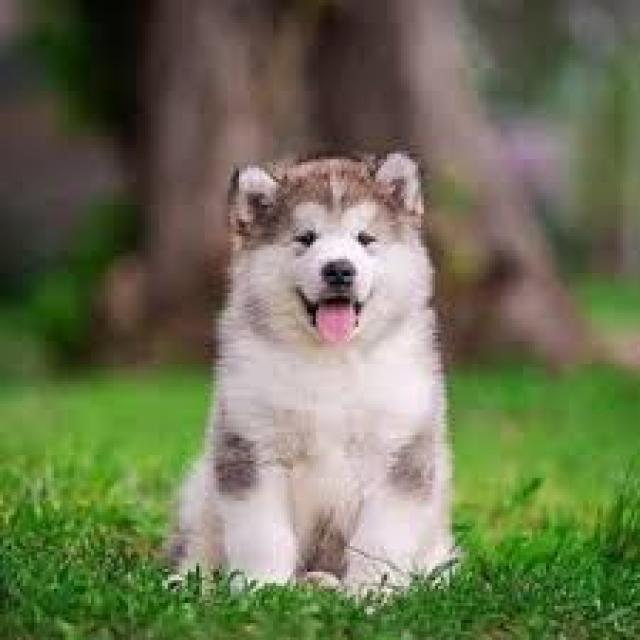ALASKAN_MALAMUTE: (141, 123, 513, 623)
